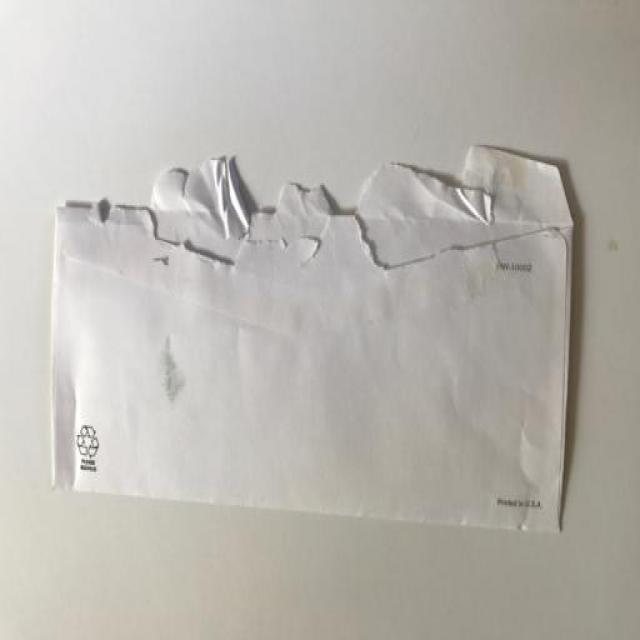paper: (44, 120, 607, 594)
